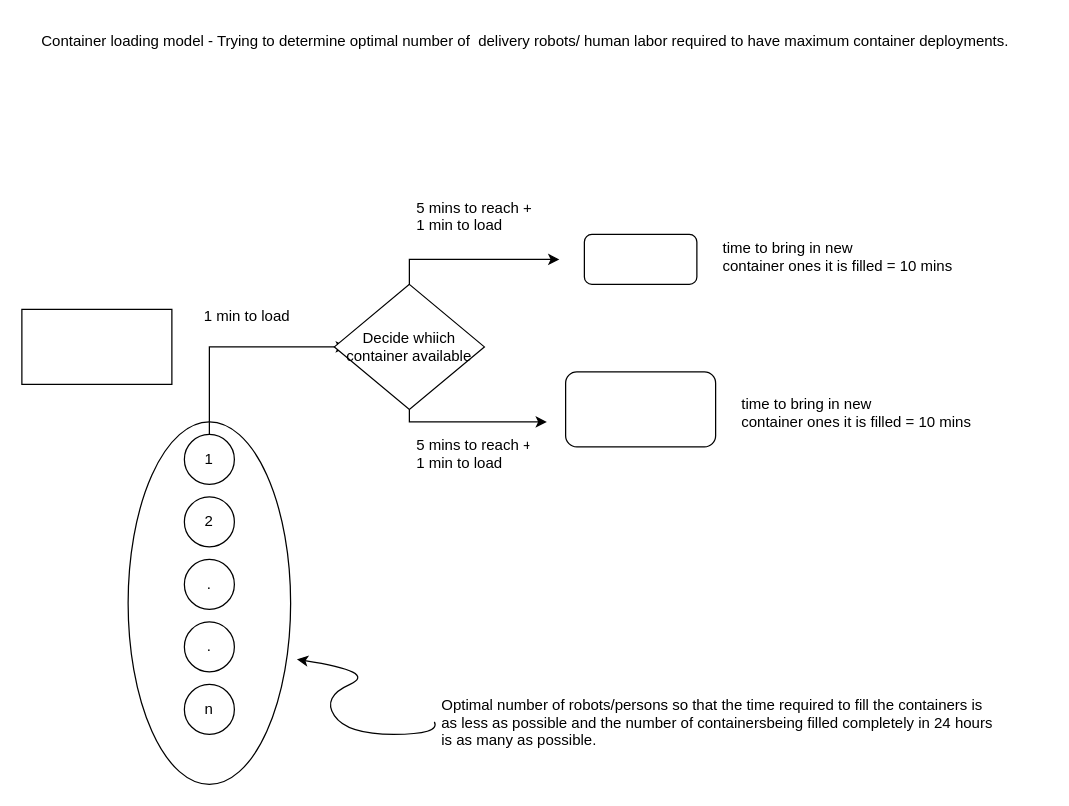
Image size: 1069x806. Some labels were removed from this diagram. The shapes that lost their labels are listed below. From the top down, each one's centre as x and y in pixels, then its label:
At pixel 640 258: "Conatiner 1 capacity - 50".
At pixel 96 346: "package ready every 2 mins".
At pixel 640 409: "container 2 capacity 100".
